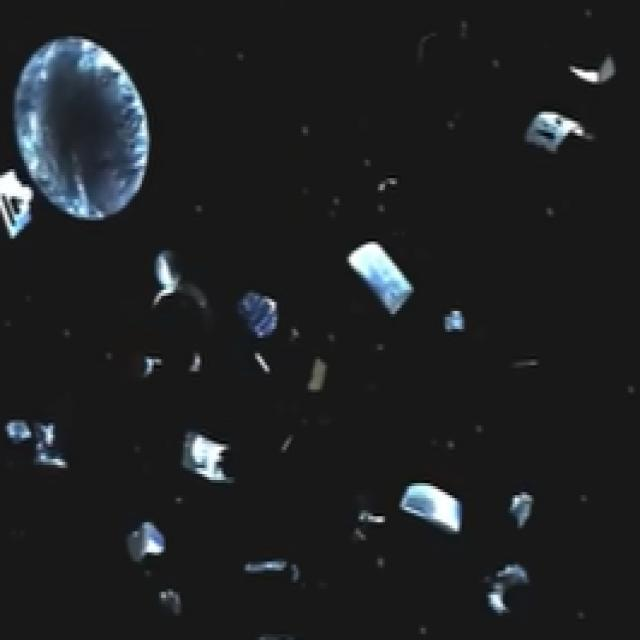large_debris: (0, 27, 163, 265), (520, 100, 603, 159)
medium_debris: (347, 238, 422, 316), (392, 483, 476, 543), (146, 246, 201, 311), (0, 166, 47, 238), (483, 559, 537, 618), (235, 286, 287, 340), (178, 434, 233, 485), (499, 484, 545, 536), (601, 56, 620, 87)
small_debris: (3, 407, 71, 473), (119, 519, 166, 556), (373, 161, 409, 200), (156, 589, 194, 621), (237, 556, 289, 579), (307, 363, 336, 393), (574, 59, 601, 86), (250, 351, 277, 377), (140, 353, 165, 380), (187, 353, 212, 379), (280, 430, 303, 456), (285, 559, 306, 585), (516, 354, 546, 372), (353, 526, 375, 548), (468, 423, 492, 439), (442, 439, 463, 456), (377, 558, 395, 576)
